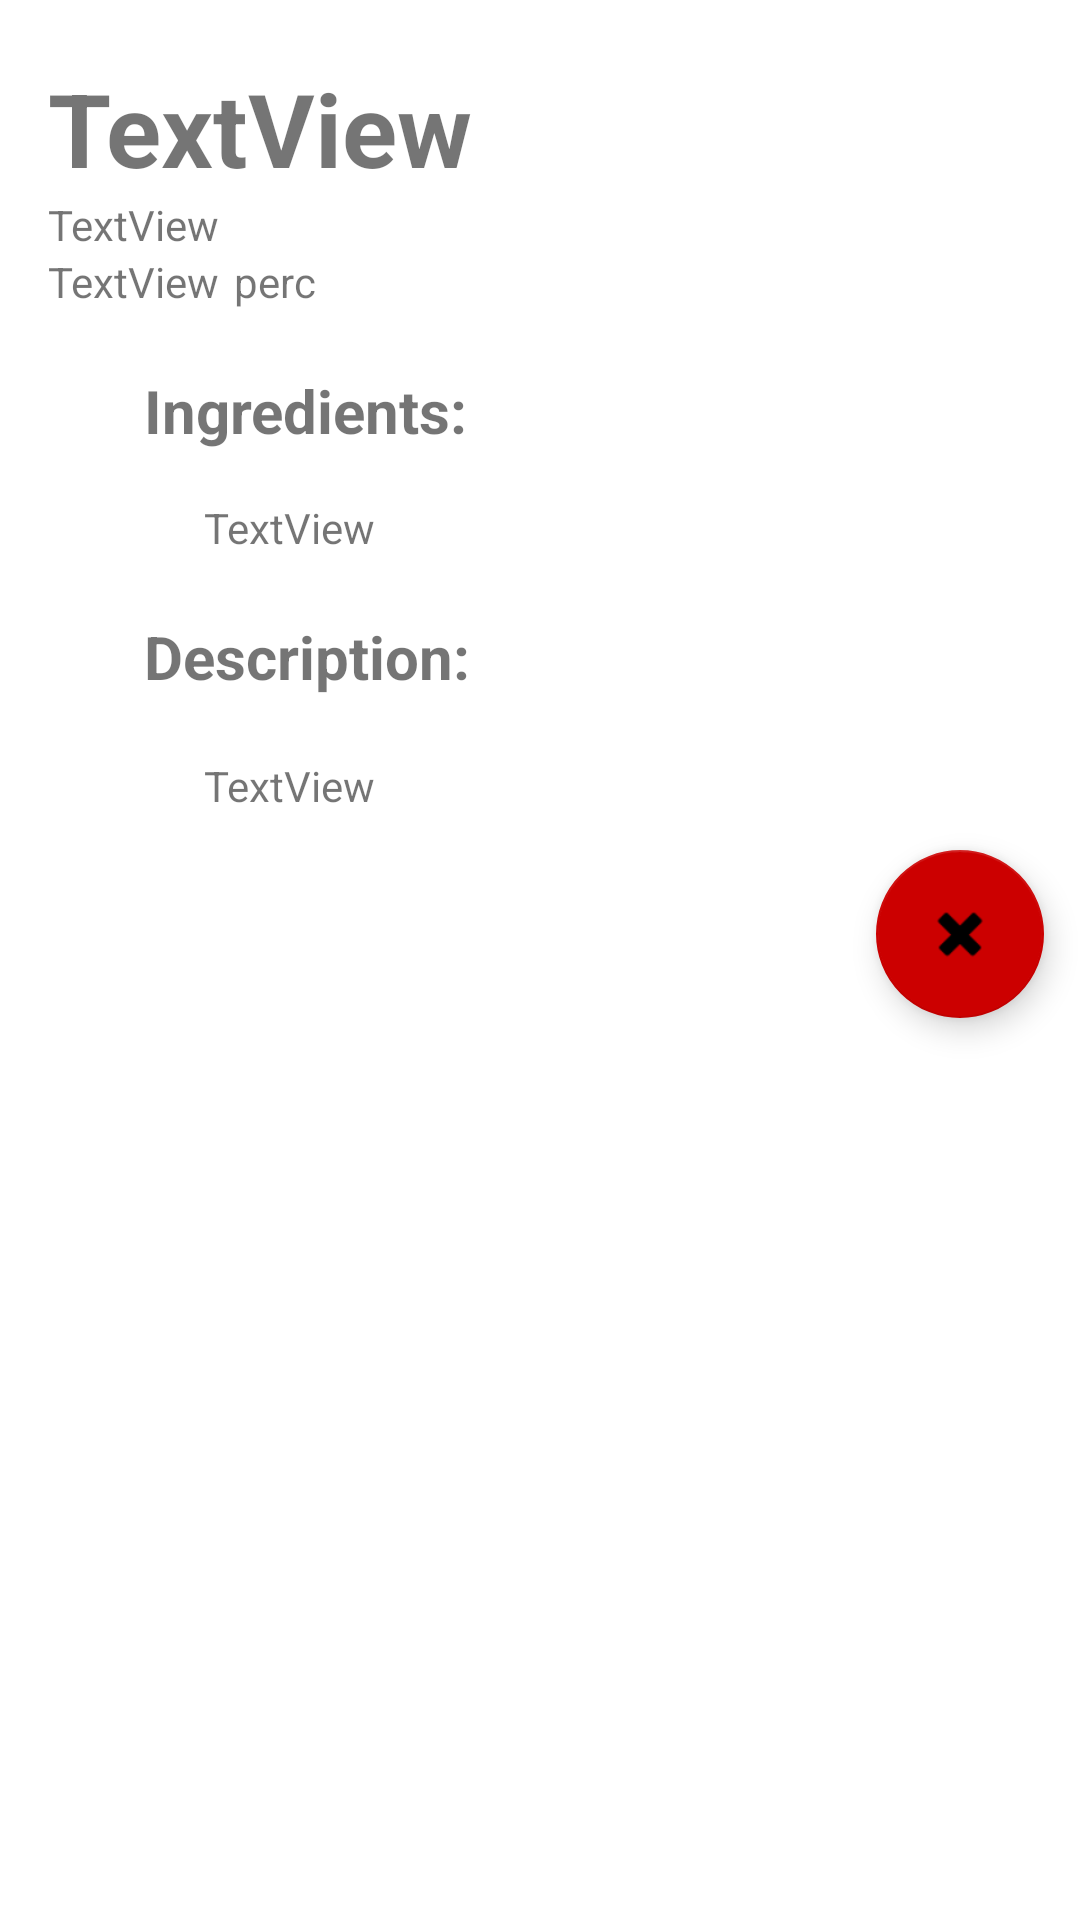

Icon click points for this 1080x1920 phone screenshot, format point (x, y):
delete: point (960, 934)
